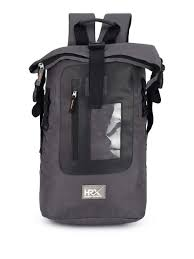backpack: (28, 12, 165, 225)
